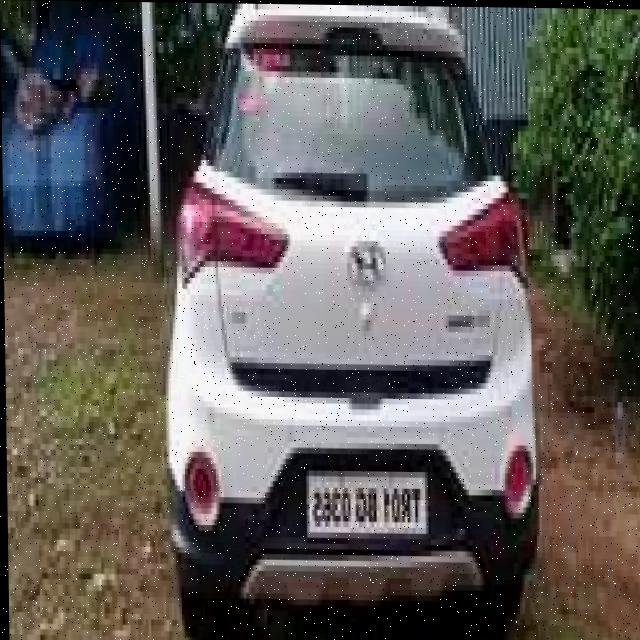plate: (304, 468, 428, 542)
